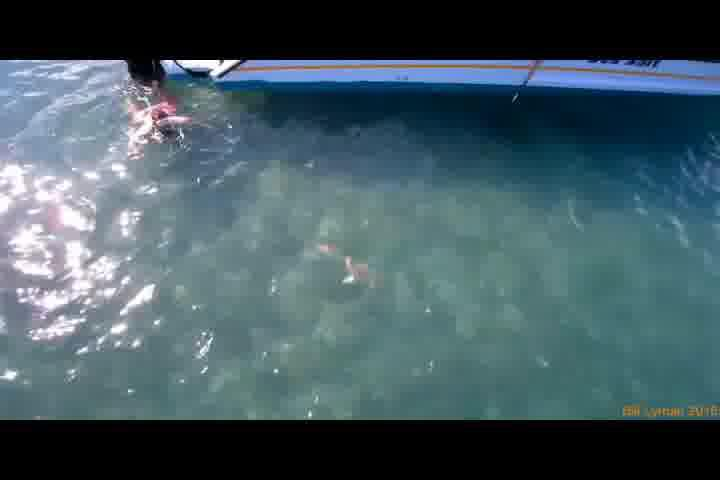swimmer: (122, 92, 195, 159)
